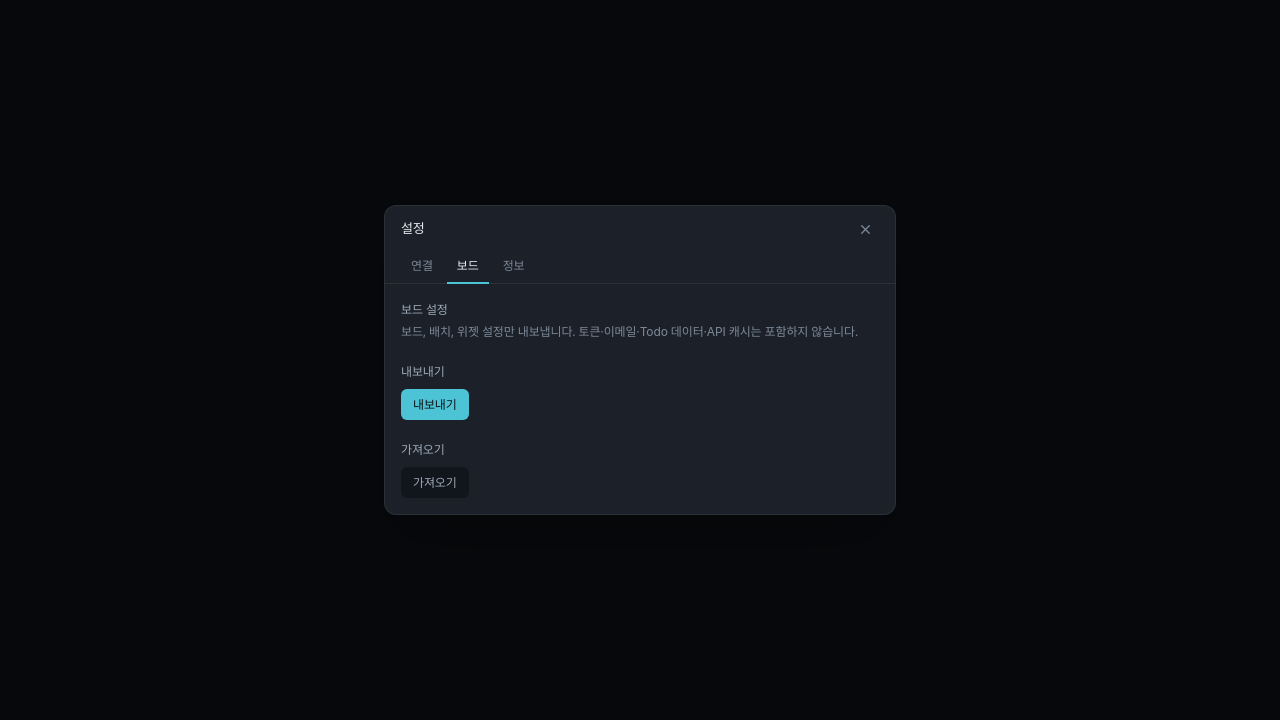
Test: SettingsModal board transfer › shows an export error inline
This screenshot has width=1280, height=720.
Click the button "내보내기": (435, 404) [401, 389, 469, 420]
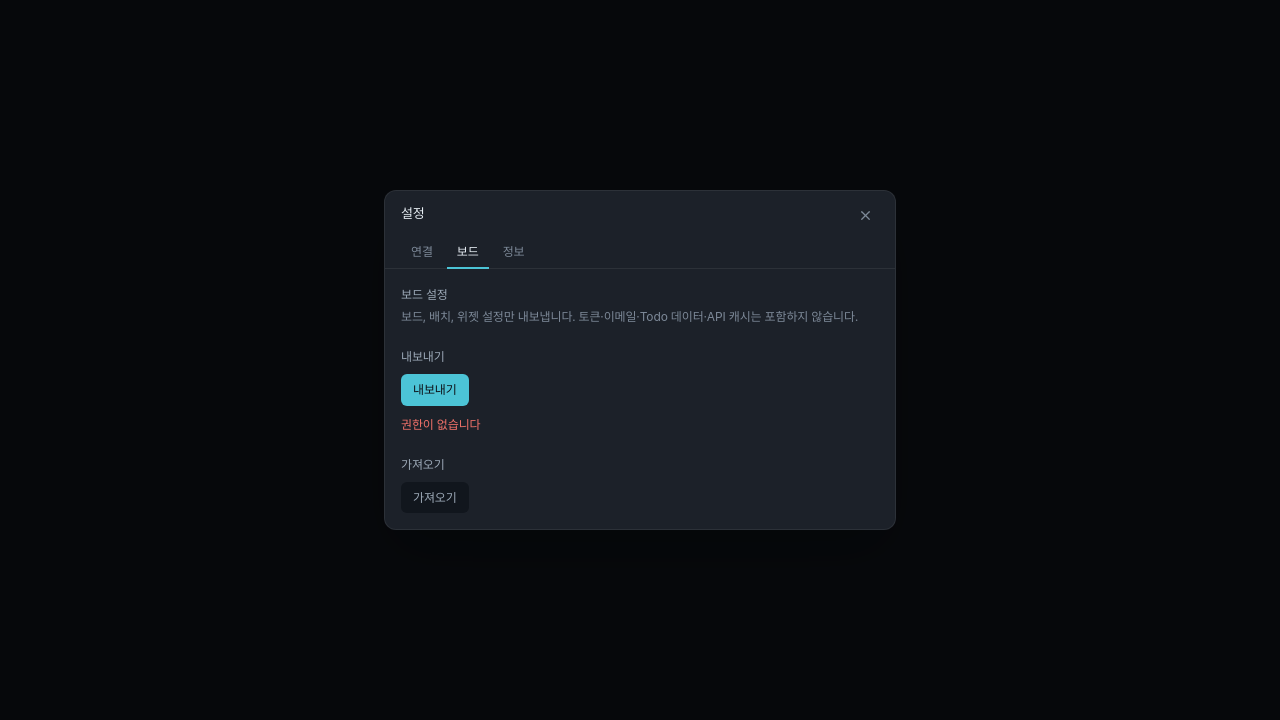
Result: the text "권한이 없습니다" is shown at [401, 417, 480, 432]
